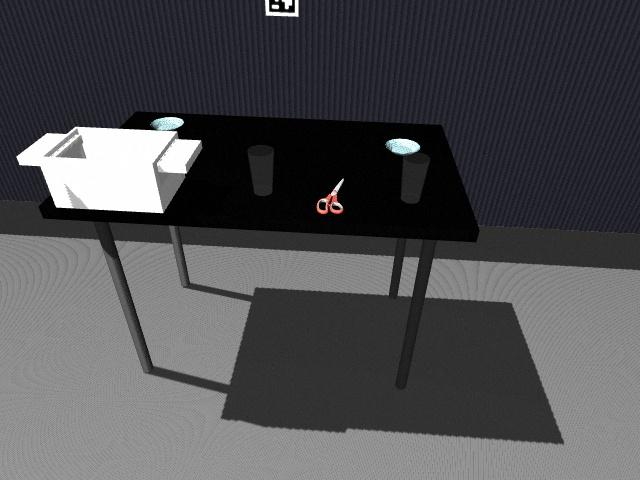cup: (401, 151, 430, 203), (247, 145, 274, 195)
plate: (384, 138, 421, 155), (149, 117, 185, 131)
scissors: (316, 179, 346, 215)
